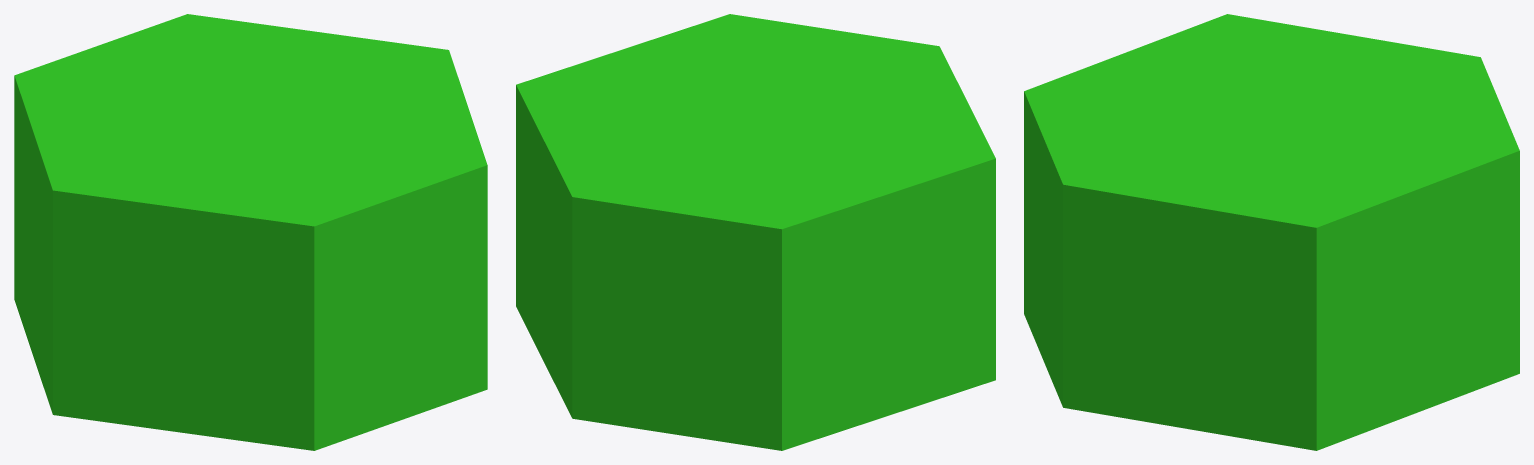
File: NormalContent.fbx
3 renders of one model, left to right at view 1: azimuth 30°, elevation 25°; view 2: azimuth 150°, elevation 25°; view 3: azimuth 270°, elevation 25°, orthographic.
Visible parts, largest first — view 1: Model; view 2: Model; view 3: Model.
Part boxes in pixels (x1,y1,x2,y2): Model: (14,14,487,450); Model: (516,14,995,450); Model: (1024,14,1519,450).
Size of what is drawn, in the model's own units: 0.6332 by 0.308 by 0.6202.
